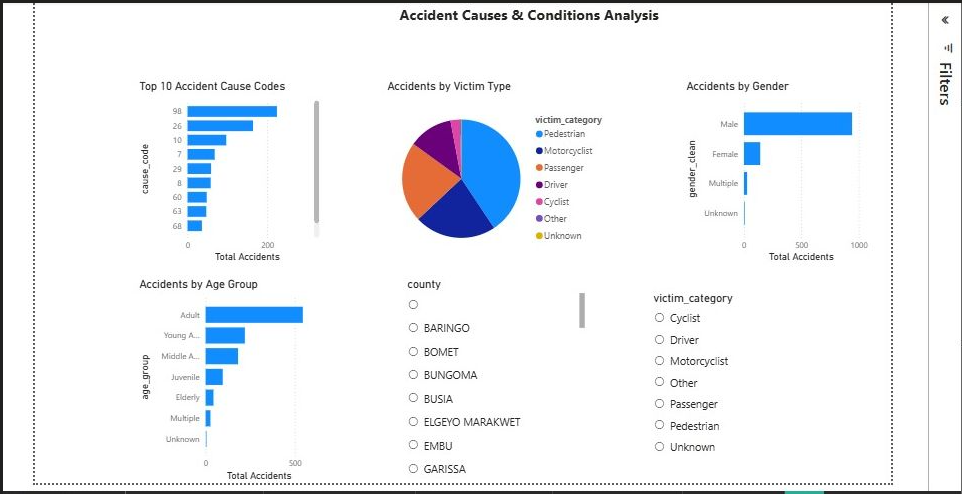

The page's visual inventory and layout, read from the dashboard file:
{"tool":"powerbi","page":{"name":"Causes & Conditions","canvas":[1280,720],"ordinal":1},"visuals":[{"type":"clusteredBarChart","title":"Top 10 Accident Cause Codes","fields":{"Category":["accidents_clean.cause_code"],"Y":["accidents_clean.Total Accidents"]},"box":[151.2,115.9,278.8,278.8],"z":0},{"type":"pieChart","title":"Accidents by Victim Type","fields":{"Category":["accidents_clean.victim_category"],"Y":["accidents_clean.Total Accidents"]},"box":[520.7,115.9,336,278.8],"z":1000},{"type":"clusteredBarChart","title":"Accidents by Gender","fields":{"Category":["accidents_clean.gender_clean"],"Y":["accidents_clean.Total Accidents"]},"box":[967.6,115.9,280.5,278.8],"z":2000},{"type":"clusteredBarChart","title":"Accidents by Age Group","fields":{"Category":["accidents_clean.age_group"],"Y":["accidents_clean.Total Accidents"]},"box":[151.2,411.5,278.8,309.1],"z":3000},{"type":"listSlicer","fields":{"Values":["accidents_clean.victim_category"]},"box":[918.8,433.4,278.8,287.2],"z":4000},{"type":"listSlicer","fields":{"Values":["accidents_clean.county"]},"box":[551,411.5,275.5,309.1],"z":5000},{"type":"textbox","box":[460.3,0,556,47],"z":6000}]}

Visuals, with their boxes on the page's 1280x720 design canvas (x1, y1, x2, y2). These are canvas units, not pixel positions in the 962x494 screenshot, which may show the page scaled, cropped or inside an application window:
"Top 10 Accident Cause Codes" clusteredBarChart: detection(151, 116, 430, 395)
"Accidents by Victim Type" pieChart: detection(521, 116, 857, 395)
"Accidents by Gender" clusteredBarChart: detection(968, 116, 1248, 395)
"Accidents by Age Group" clusteredBarChart: detection(151, 412, 430, 721)
listSlicer - accidents_clean.victim_category: detection(919, 433, 1198, 721)
listSlicer - accidents_clean.county: detection(551, 412, 826, 721)
textbox: detection(460, 0, 1016, 47)
